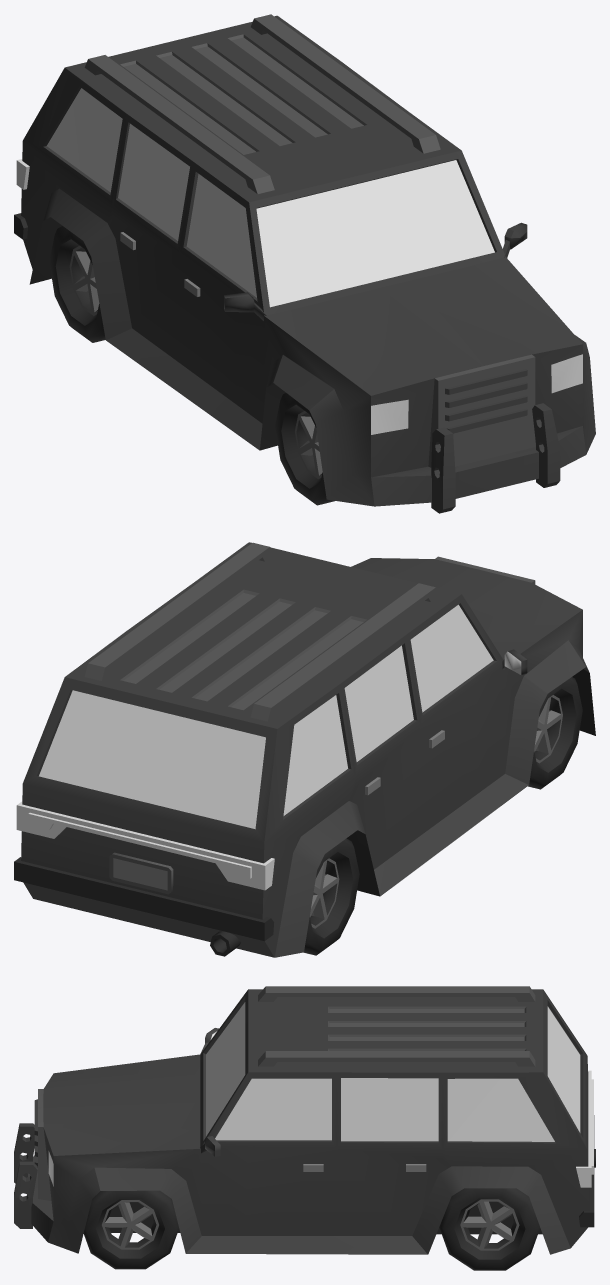
Rendered from armor.fbx.
3 views of the same model, one above another, from view 1: azimuth 30°, elevation 25°; view 2: azimuth 150°, elevation 25°; view 3: azimuth 270°, elevation 25° (orthographic). The views are drawn at different scales.
Visible parts, largest first — view 1: van, wheels.011, wheels.010; view 2: van, wheels.011, wheels.010; view 3: van, wheels.049, wheels.048.
Boxes of the visible parts, box(x1,y1,x2,y2) form: van: box(14, 14, 595, 513); wheels.011: box(49, 226, 105, 342); wheels.010: box(275, 393, 334, 505); van: box(14, 542, 595, 957); wheels.011: box(303, 838, 359, 955); wheels.010: box(528, 677, 582, 789); van: box(14, 986, 595, 1254); wheels.049: box(439, 1188, 540, 1270); wheels.048: box(83, 1190, 179, 1269).
Size of the model in its own units: 247 by 197 by 515.
